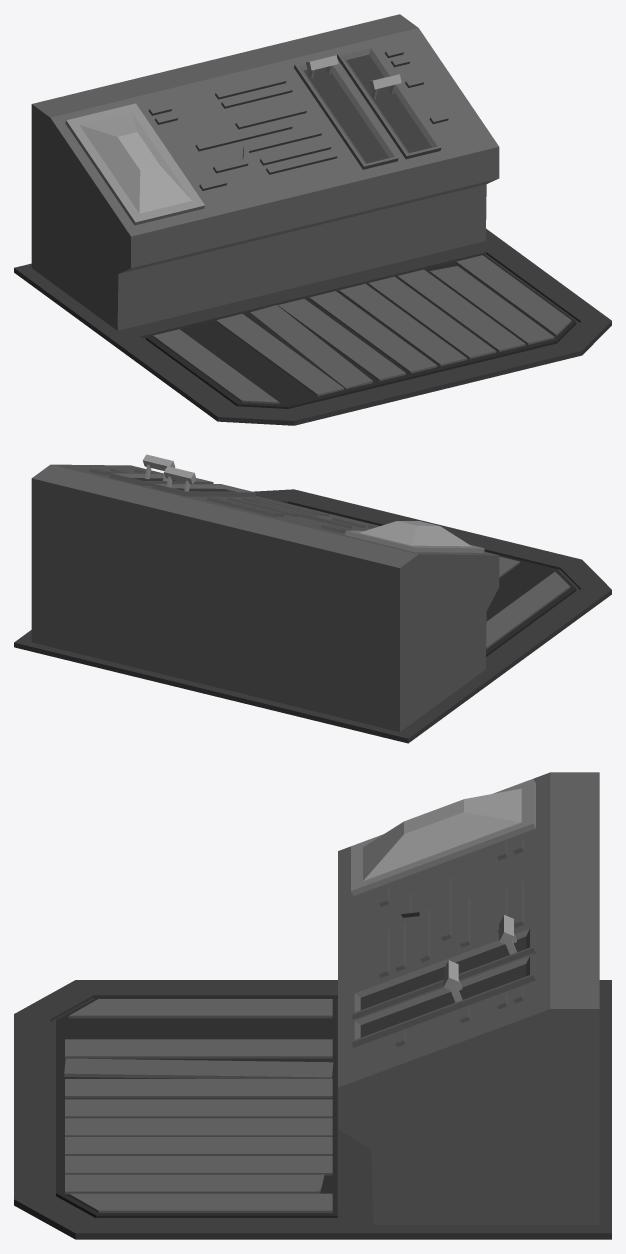
File: large_console_B.FBX
The picture shows the model from 3 angles, top to bottom: view 1: azimuth 30°, elevation 25°; view 2: azimuth 150°, elevation 25°; view 3: azimuth 270°, elevation 25°; orthographic projection. The views are drawn at different scales.
Visible parts, largest first — view 1: large_console_B, large_console_B_glow; view 2: large_console_B, large_console_B_glow; view 3: large_console_B, large_console_B_glow.
Boxes of the visible parts, x1,y1,x2,y2 form: large_console_B: (14,14,611,425); large_console_B_glow: (142,47,579,406); large_console_B: (14,454,611,743); large_console_B_glow: (89,468,579,658); large_console_B: (14,772,611,1239); large_console_B_glow: (50,835,523,1217).
Size of the model in its own units: 143 by 61.68 by 142.
